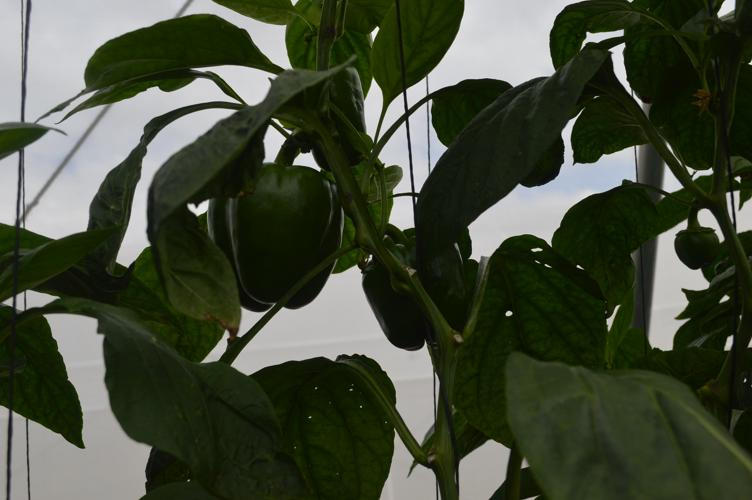BellPepper: (213, 164, 348, 320), (360, 237, 463, 356)
